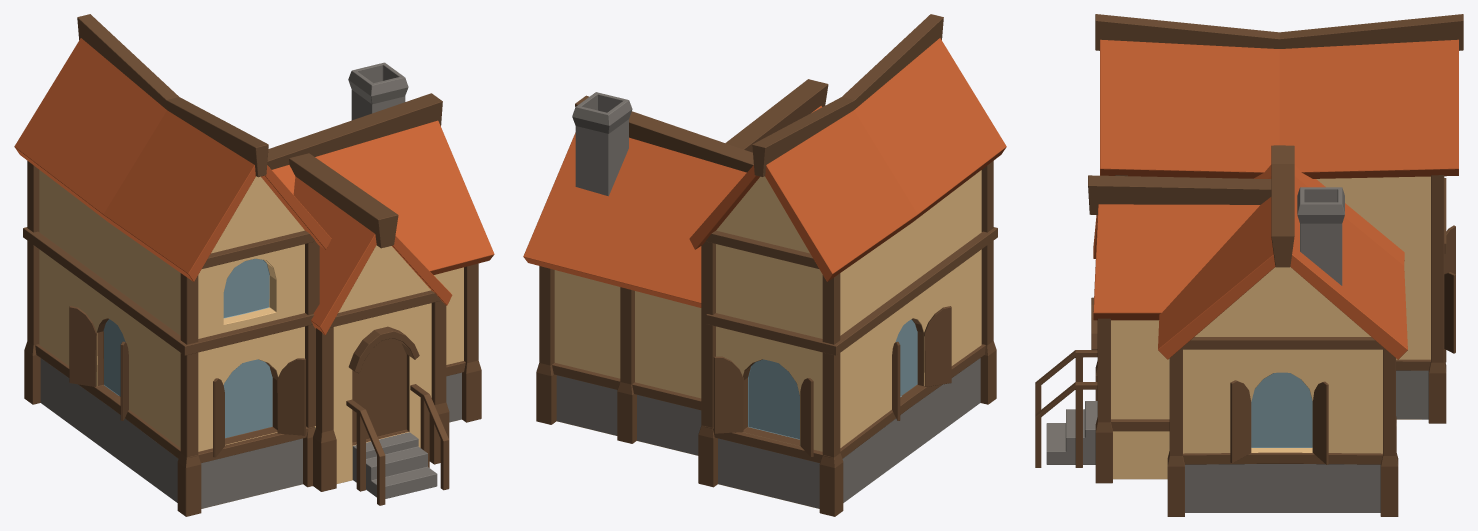
The model's file is Greed_house_2.fbx.
3 renders of one model, left to right at view 1: azimuth 30°, elevation 25°; view 2: azimuth 150°, elevation 25°; view 3: azimuth 270°, elevation 25°, orthographic. The views are drawn at different scales.
Visible parts, largest first — view 1: VillageHouse_2; view 2: VillageHouse_2; view 3: VillageHouse_2.
Boxes of the visible parts, x1,y1,x2,y2 form: VillageHouse_2: (14, 14, 494, 516); VillageHouse_2: (523, 14, 1006, 516); VillageHouse_2: (1035, 14, 1463, 516).
Bounding box in the file's own units: 7.93 × 7.85 × 8.19.
